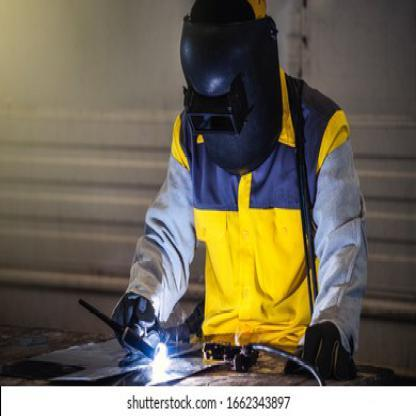Gloves: (284, 319, 356, 379), (114, 292, 164, 341)
